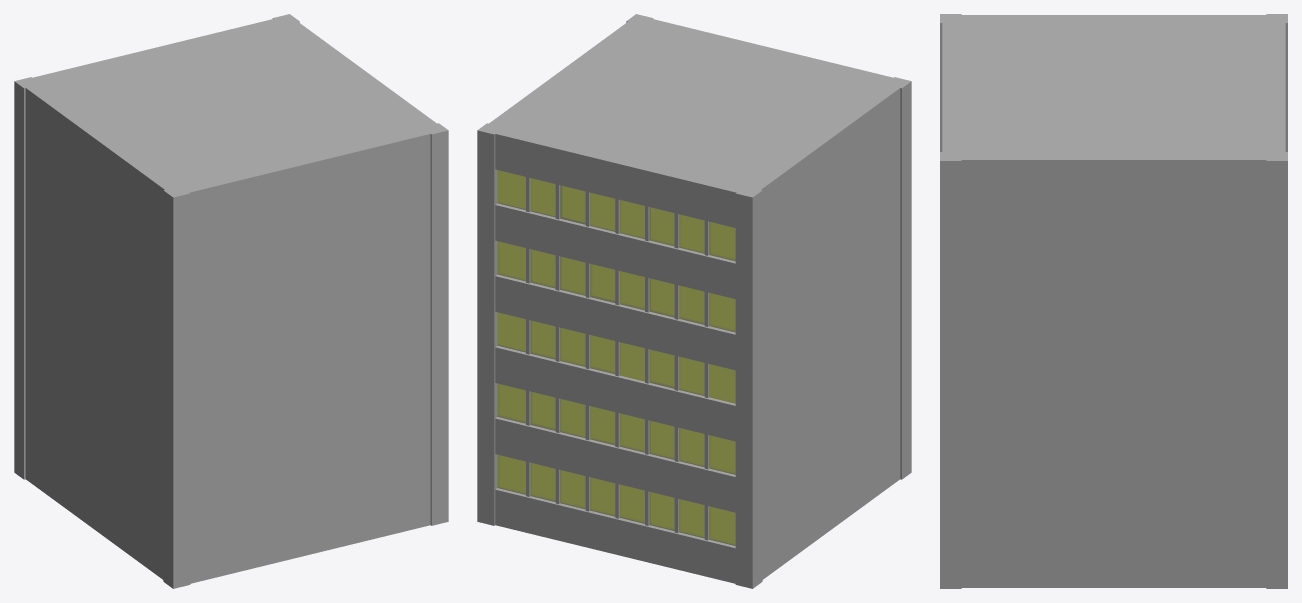
File: Building_1.fbx
3 renders of one model, left to right at view 1: azimuth 30°, elevation 25°; view 2: azimuth 150°, elevation 25°; view 3: azimuth 270°, elevation 25°, orthographic. The views are drawn at different scales.
Parts seen in each view (by area): view 1: Pillar5; view 2: Pillar5; view 3: Pillar5.
Part boxes in pixels (left/top/right/bottom): Pillar5: left=14, top=14, right=448, bottom=588; Pillar5: left=477, top=14, right=911, bottom=588; Pillar5: left=940, top=14, right=1287, bottom=588.
Size of the model in its own units: 4.05 by 4.05 by 5.5.
1 material, 1 textured.
